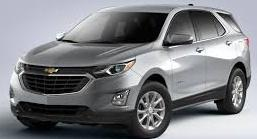Crossovers: (10, 6, 251, 138)
